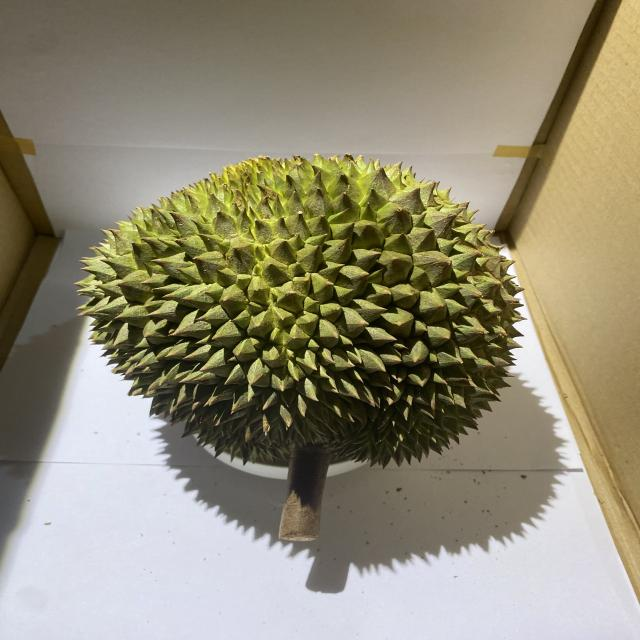immature: (68, 152, 532, 470)
